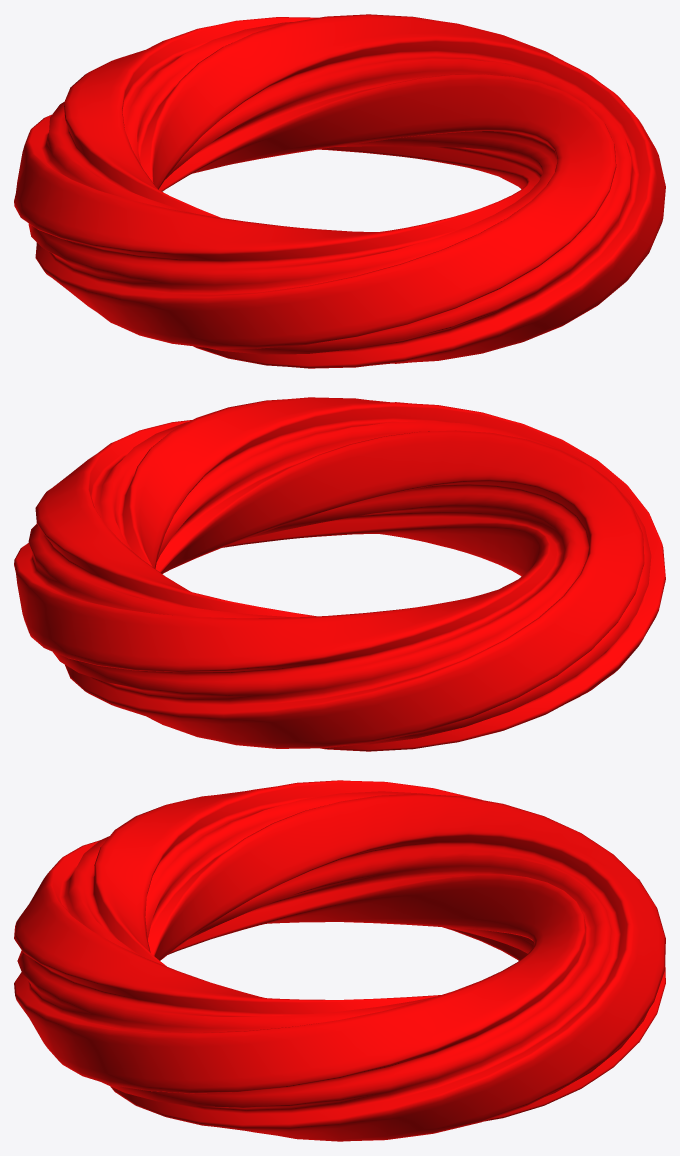
File: Destination_spot.fbx
3 views of the same model, one above another, from view 1: azimuth 30°, elevation 25°; view 2: azimuth 150°, elevation 25°; view 3: azimuth 270°, elevation 25° (orthographic).
Parts seen in each view (by area): view 1: Twisted Torus 2; view 2: Twisted Torus 2; view 3: Twisted Torus 2.
Part boxes in pixels (bbox=[...]): Twisted Torus 2: bbox=[14, 14, 665, 368]; Twisted Torus 2: bbox=[14, 397, 665, 751]; Twisted Torus 2: bbox=[14, 780, 665, 1141].
Bounding box in the file's own units: 337 × 73.57 × 337.
